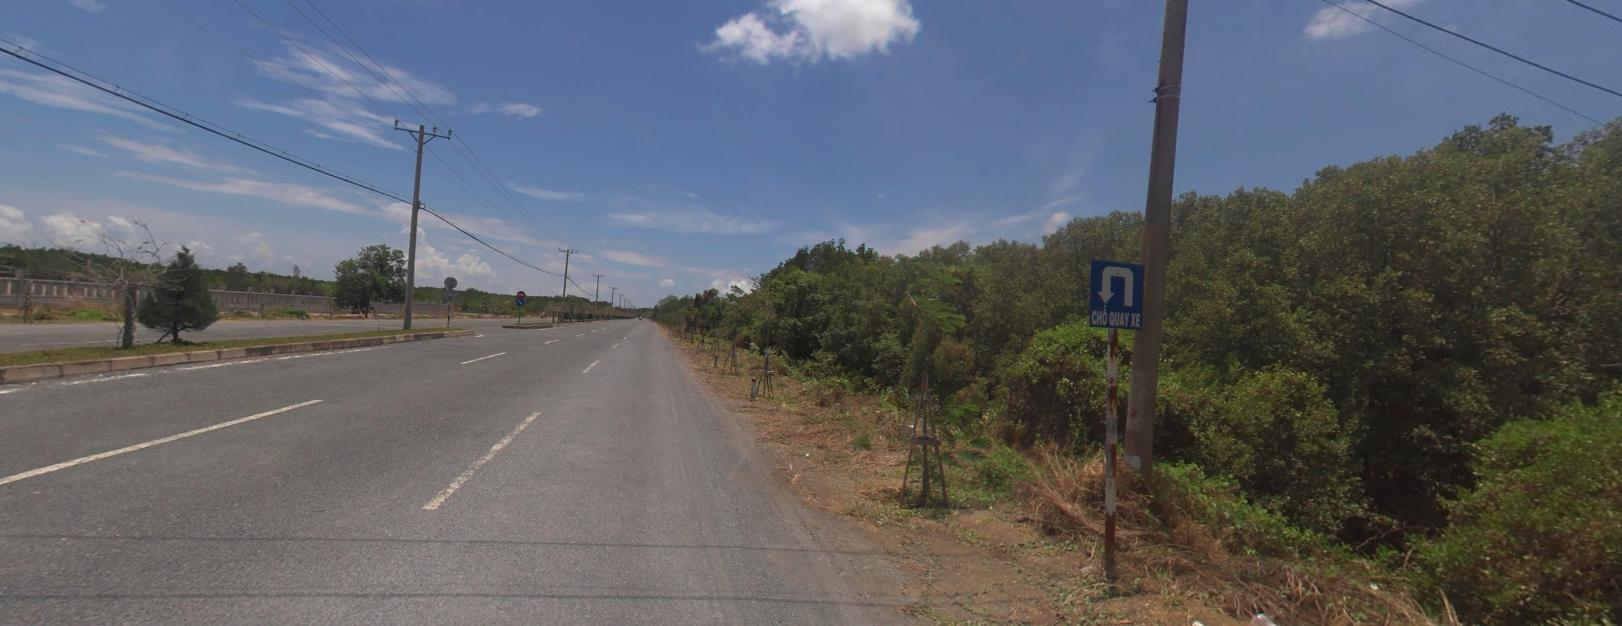Cam nguoc chieu: (516, 288, 524, 296)
Hieu lenh: (516, 296, 524, 304)
